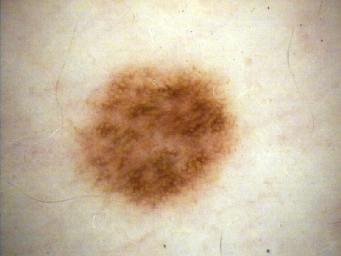nevus: (76, 69, 230, 205)
